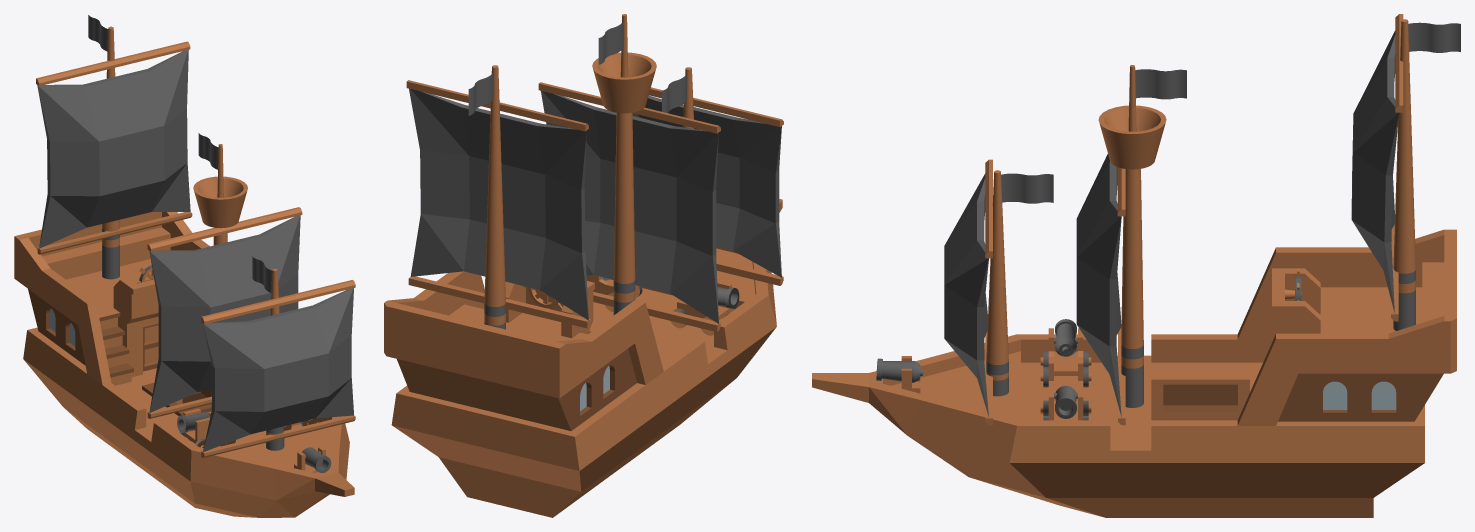
File: boat1.glb
3 views of the same model, side by side, from view 1: azimuth 30°, elevation 25°; view 2: azimuth 150°, elevation 25°; view 3: azimuth 270°, elevation 25° (orthographic). The views are drawn at different scales.
Parts seen in each view (by area): view 1: mergedBlocks(Clone); view 2: mergedBlocks(Clone); view 3: mergedBlocks(Clone).
Boxes of the visible parts, x1,y1,x2,y2 form: mergedBlocks(Clone): (14, 15, 355, 517); mergedBlocks(Clone): (384, 14, 783, 517); mergedBlocks(Clone): (812, 14, 1460, 517).
Size of the model in its own units: 5.7 by 13.09 by 16.2.
